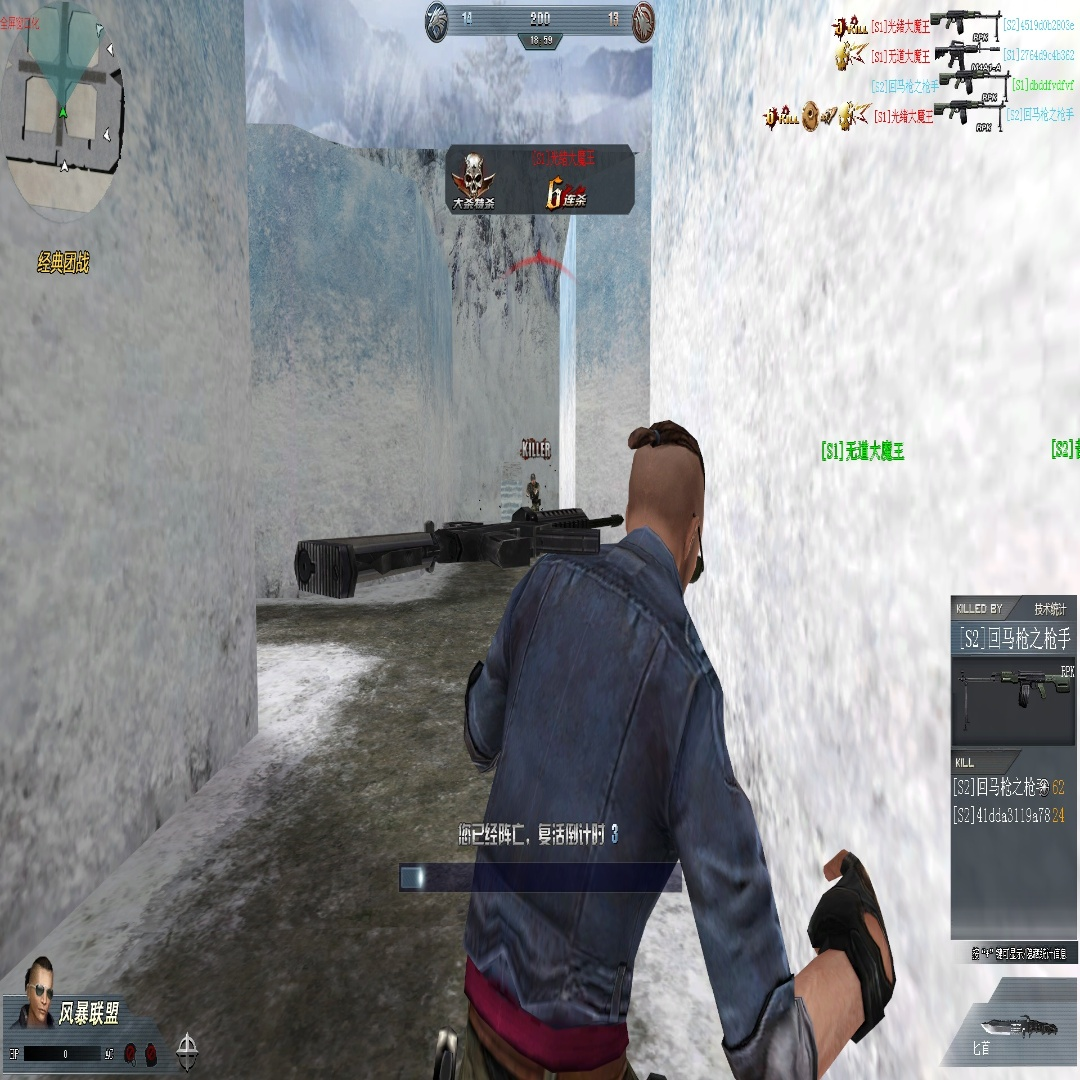ct: (528, 474, 542, 513)
head: (530, 473, 536, 485)
